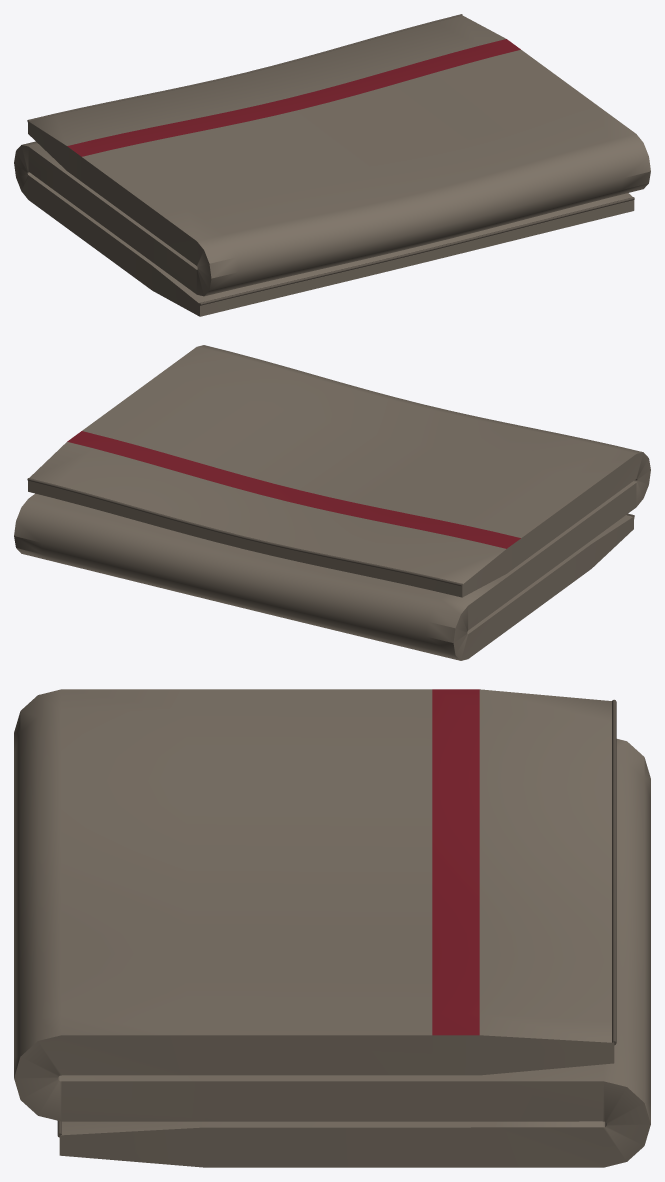
The model's file is folded-blanket-29b3129ba947.glb.
3 renders of one model, top to bottom at view 1: azimuth 30°, elevation 25°; view 2: azimuth 150°, elevation 25°; view 3: azimuth 270°, elevation 25°, orthographic. The views are drawn at different scales.
Parts seen in each view (by area): view 1: cover-cloth, accent-crimson, fabric; view 2: cover-cloth, accent-crimson, fabric; view 3: cover-cloth, accent-crimson, fabric.
Boxes of the visible parts, bbox=[...] form: cover-cloth: bbox=[14, 15, 650, 316]; accent-crimson: bbox=[67, 39, 520, 156]; fabric: bbox=[27, 14, 634, 305]; cover-cloth: bbox=[14, 345, 650, 660]; accent-crimson: bbox=[67, 431, 520, 548]; fabric: bbox=[27, 478, 634, 586]; cover-cloth: bbox=[14, 689, 650, 1167]; accent-crimson: bbox=[432, 689, 479, 1035]; fabric: bbox=[57, 699, 616, 1137].
Size of the model in its own units: 0.4505 by 0.0805 by 0.3505.
